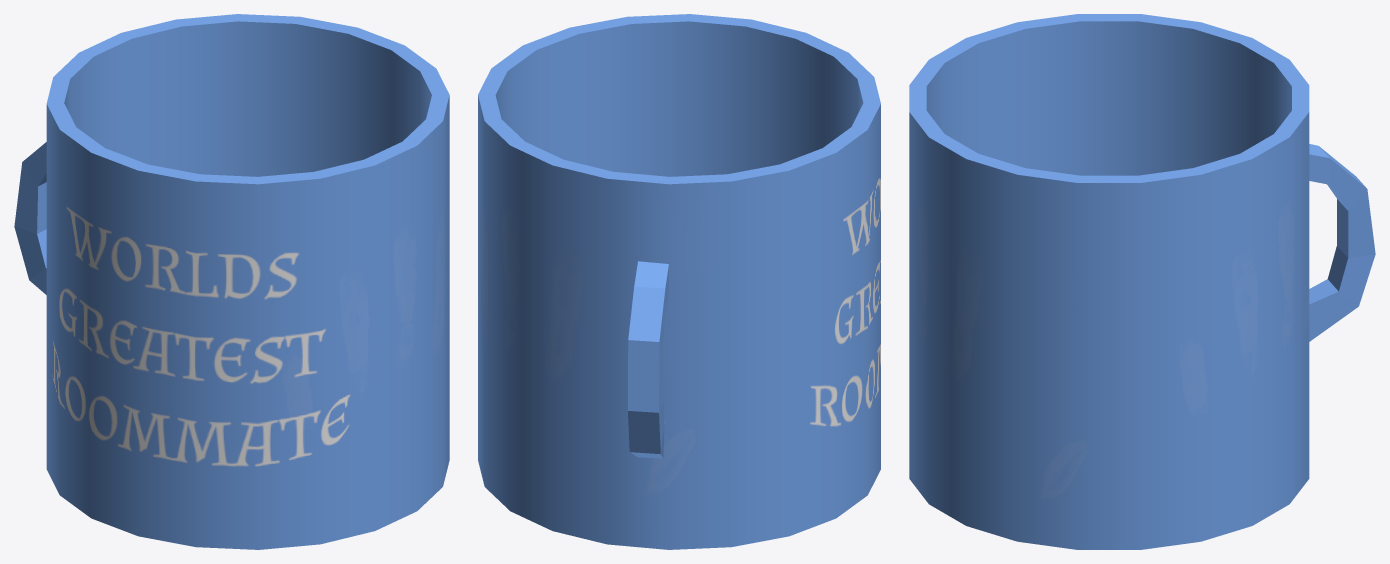
File: Mug.fbx
The picture shows the model from 3 angles, left to right: view 1: azimuth 30°, elevation 25°; view 2: azimuth 150°, elevation 25°; view 3: azimuth 270°, elevation 25°; orthographic projection.
Visible parts, largest first — view 1: CupBO_OBJ; view 2: CupBO_OBJ; view 3: CupBO_OBJ.
Part boxes in pixels (x1,y1,x2,y2): CupBO_OBJ: (14,14,449,549); CupBO_OBJ: (478,14,880,549); CupBO_OBJ: (909,14,1375,549).
Size of the model in its own units: 9.19 by 9.31 by 10.72.
1 material, 1 textured.
